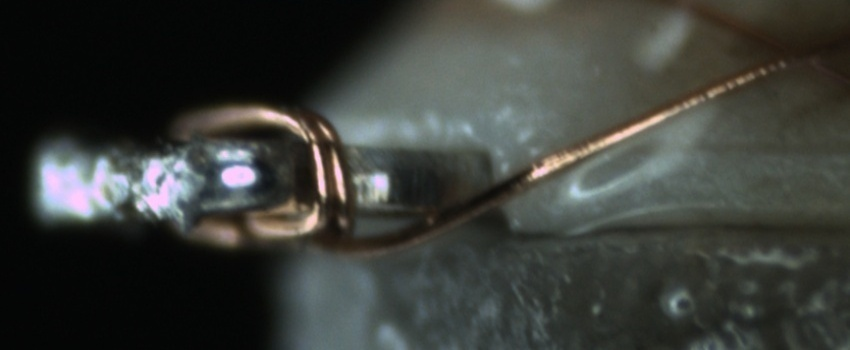CL: (747, 28, 835, 84)
DL: (642, 118, 845, 172)
TE: (172, 86, 361, 245)
